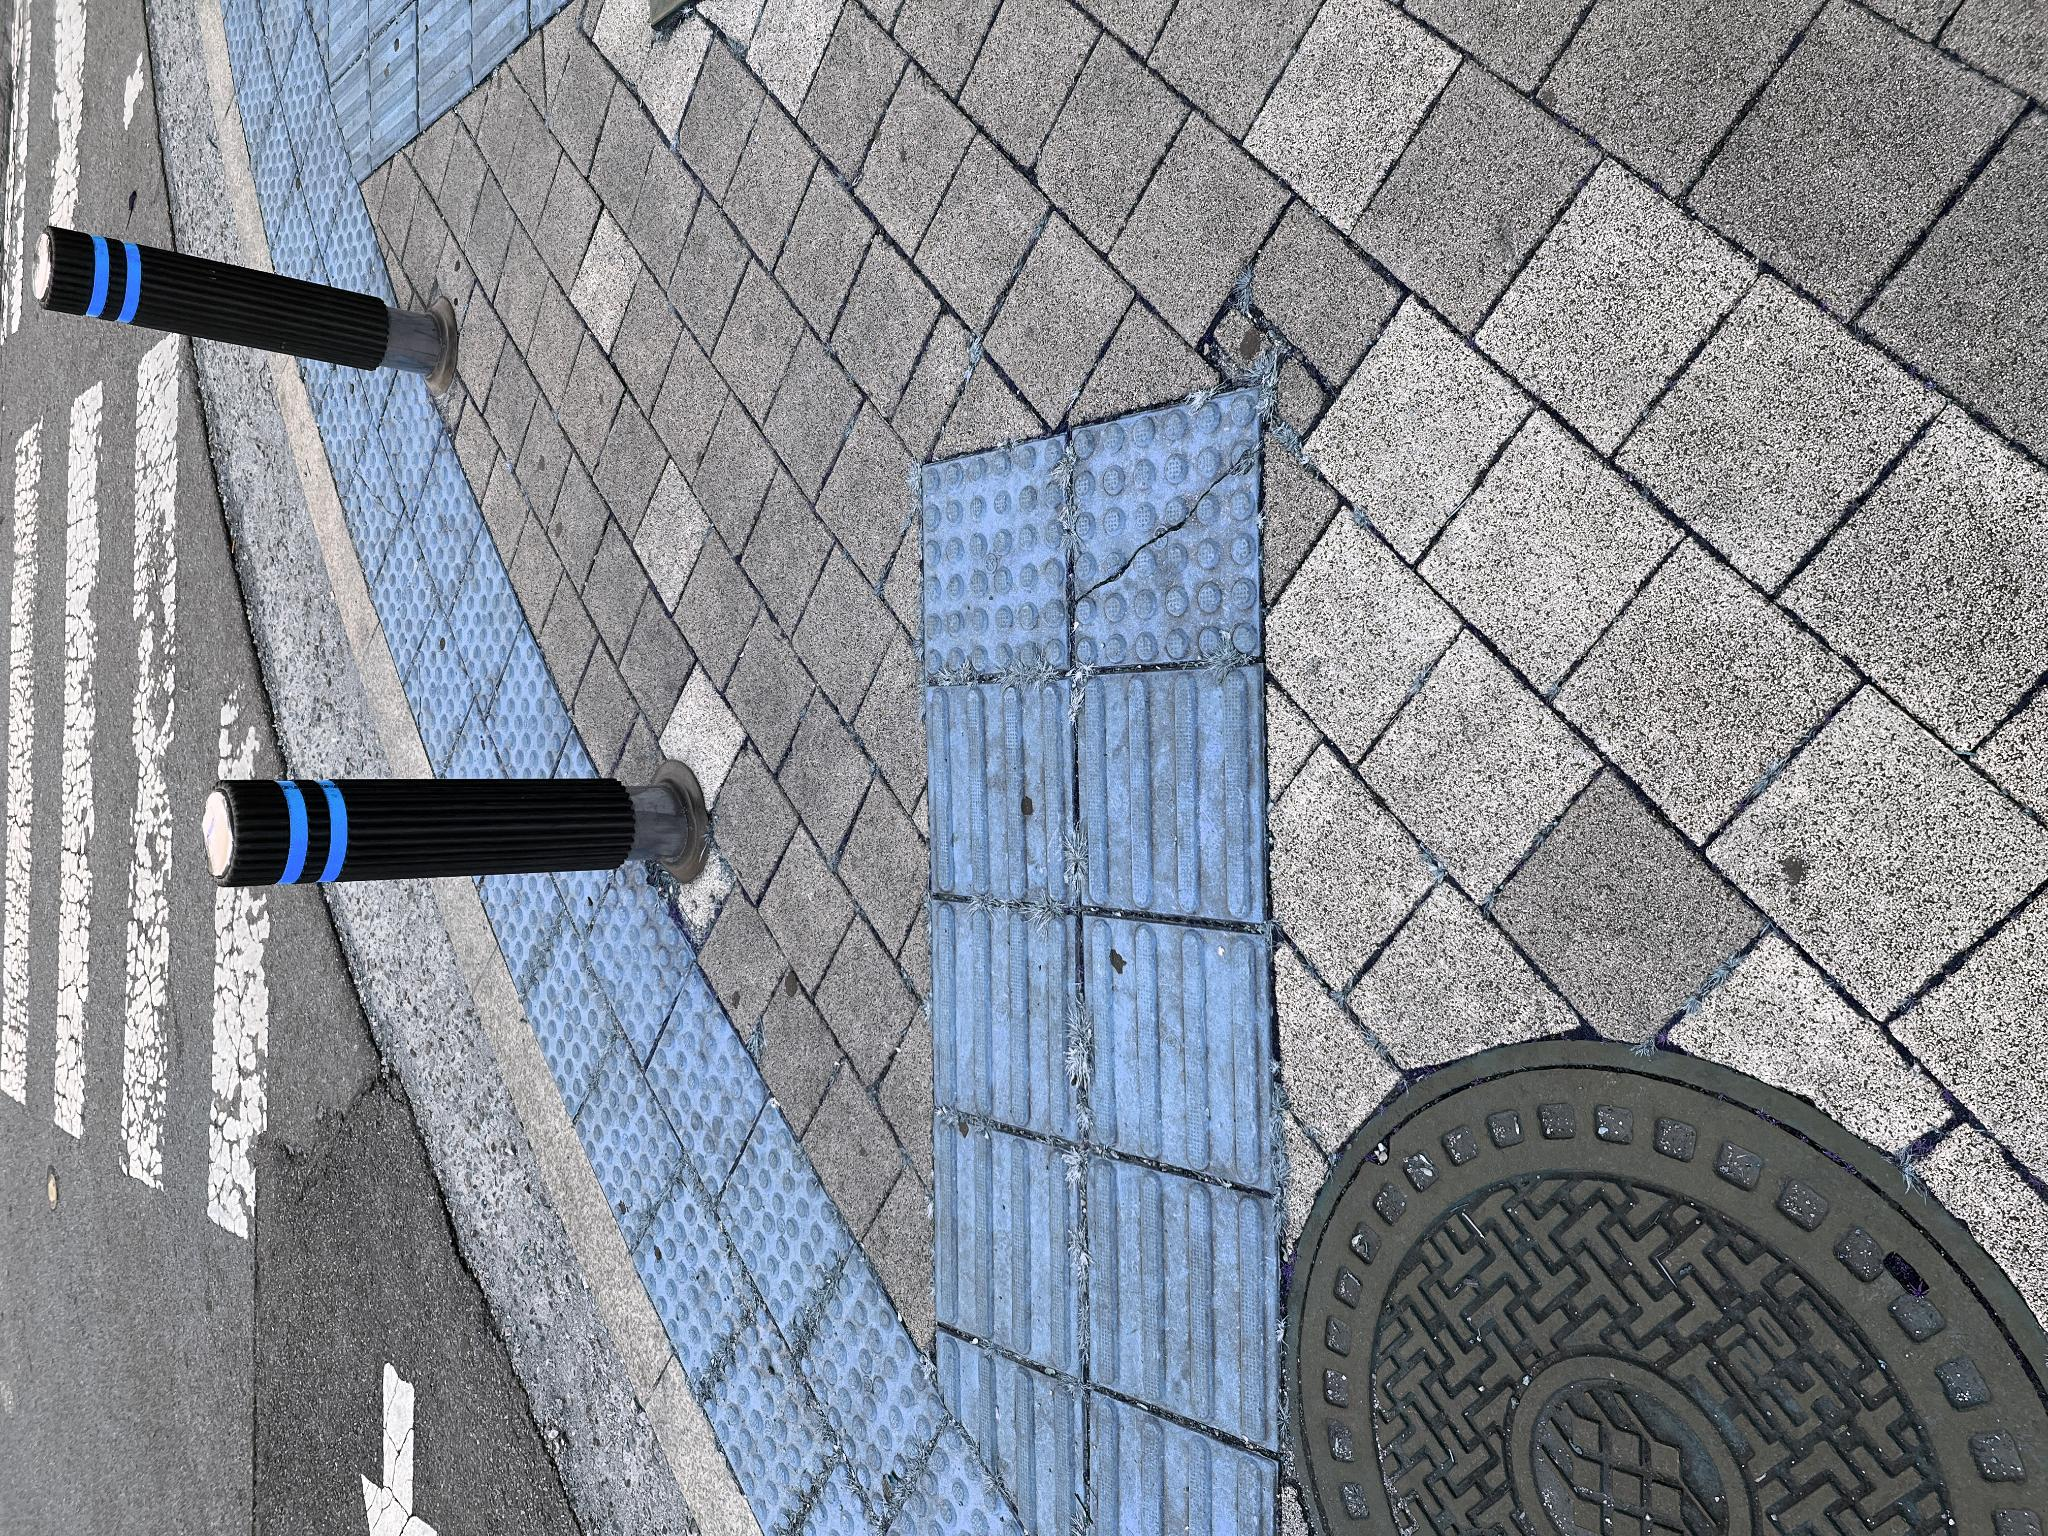Stop block broken: (869, 1070, 1148, 1258)
Stop block normal: (856, 921, 1100, 1066)
Straight block normal: (342, 1086, 622, 1275), (614, 1076, 872, 1260), (395, 934, 634, 1076), (632, 926, 856, 1076)
